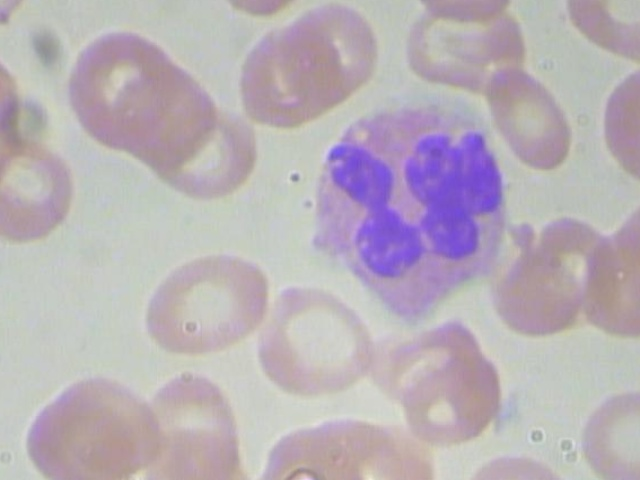RBC: (133, 239, 278, 366), (260, 270, 384, 410), (52, 24, 179, 142), (49, 366, 170, 477), (397, 349, 523, 445), (372, 314, 488, 407), (224, 23, 330, 122), (282, 0, 385, 101), (484, 64, 576, 172), (0, 127, 72, 245), (562, 379, 640, 480)
WBC: (293, 91, 524, 339)
